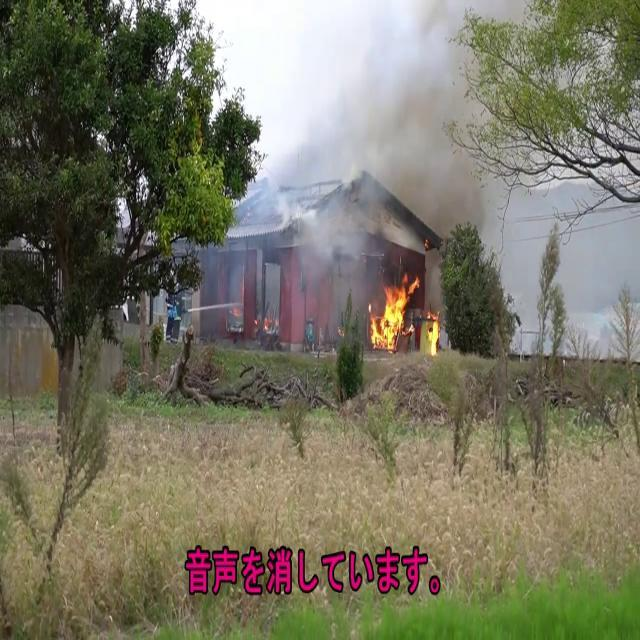Fire: (366, 266, 422, 352), (421, 307, 443, 356)
Smoke: (225, 2, 487, 320)
